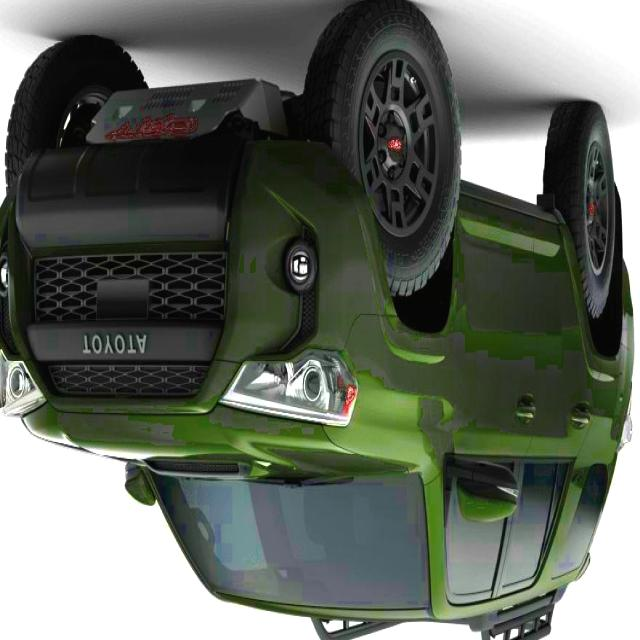green: (5, 47, 625, 635)
